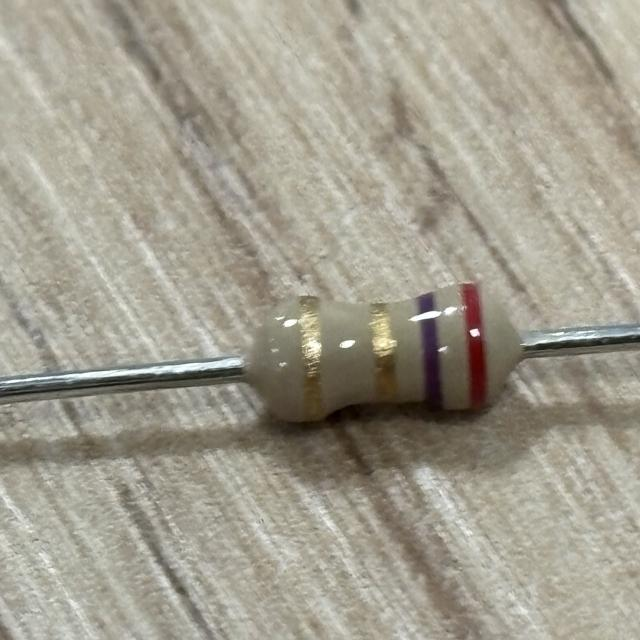resistor: (261, 279, 506, 428)
